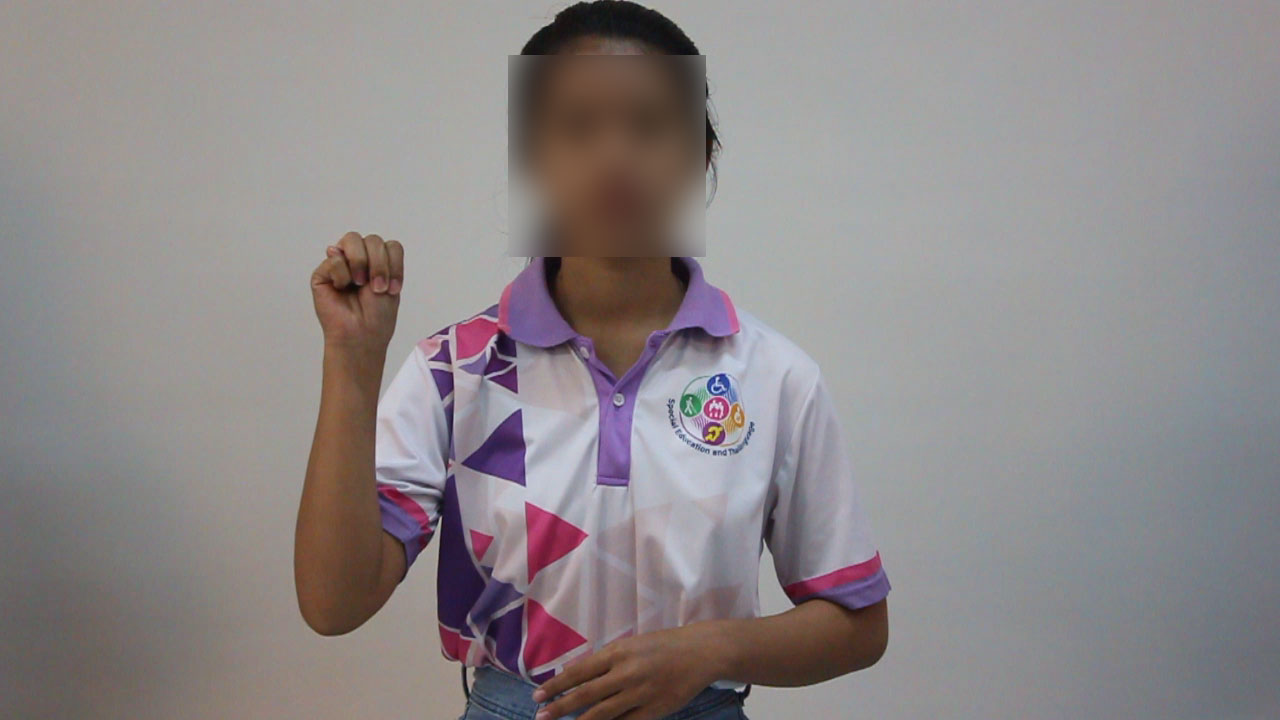mor: (292, 207, 424, 359)
